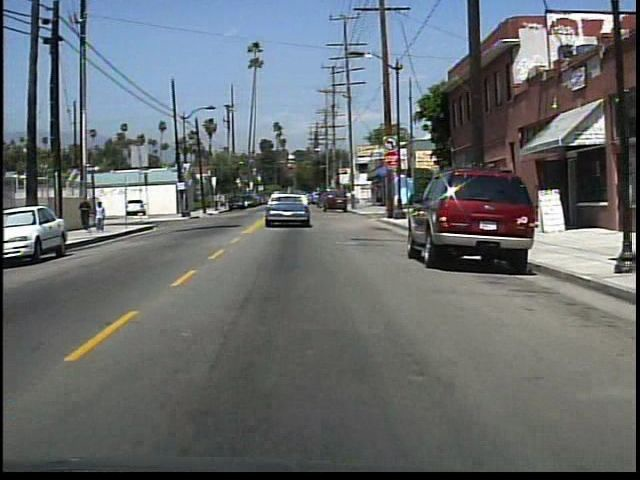person: (79, 193, 96, 234), (95, 200, 109, 234)
